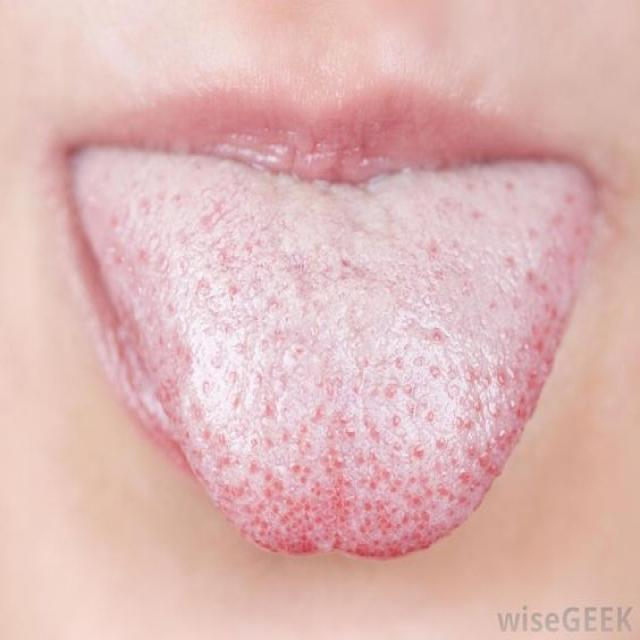baitaishe: (70, 138, 594, 560)
hongdianshe: (412, 442, 425, 460), (430, 328, 443, 344), (366, 476, 379, 492), (362, 498, 374, 513), (409, 492, 421, 507), (313, 404, 326, 417), (390, 412, 400, 427), (290, 461, 301, 474)
xinfeiao: (272, 527, 396, 563)
